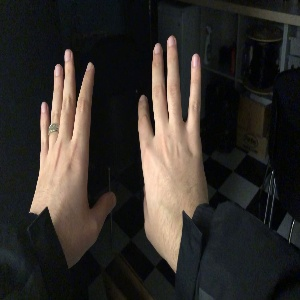hand: (38, 51, 116, 232), (137, 35, 208, 214)
